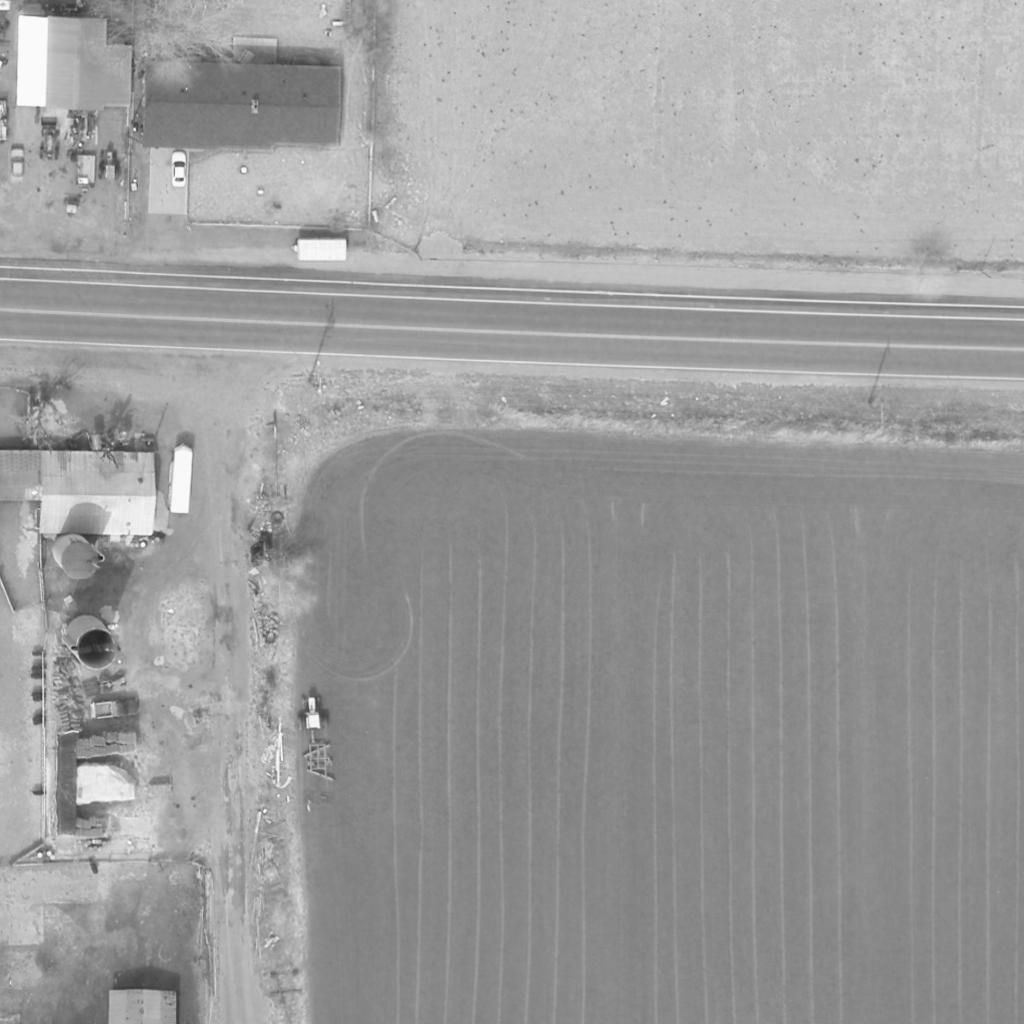vehicle: (169, 447, 193, 515), (296, 693, 330, 731), (296, 237, 348, 261), (36, 117, 62, 163), (96, 148, 124, 184), (98, 672, 130, 696), (169, 150, 189, 188), (7, 149, 27, 183)
